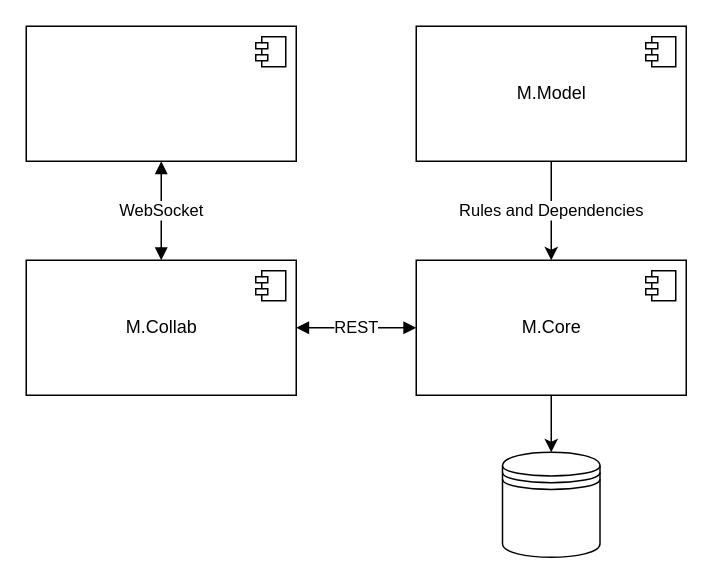
Some shapes in this 713 by 584 pixel diagram are drawn without their labels. Here are the shapes that lost their labels. From the top down, the box of each, then its label:
(25, 25, 296, 161): M.Collab-Customer
(501, 451, 600, 557): Ruleset Database
